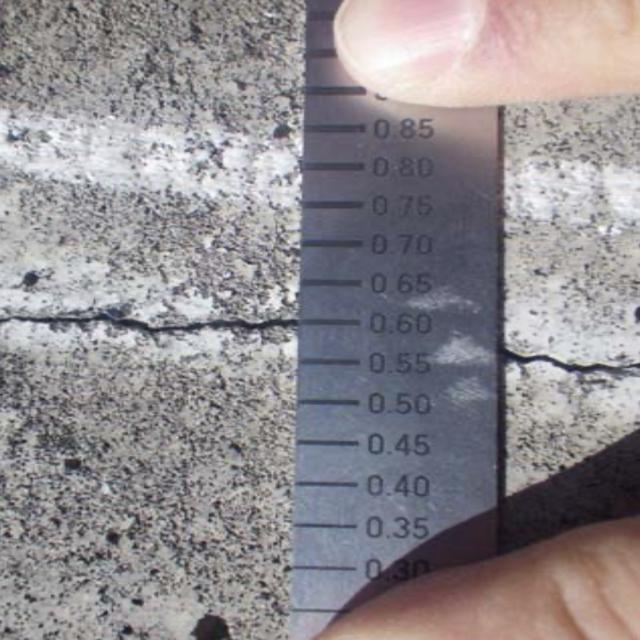crack: (5, 274, 298, 369), (508, 314, 640, 397)
